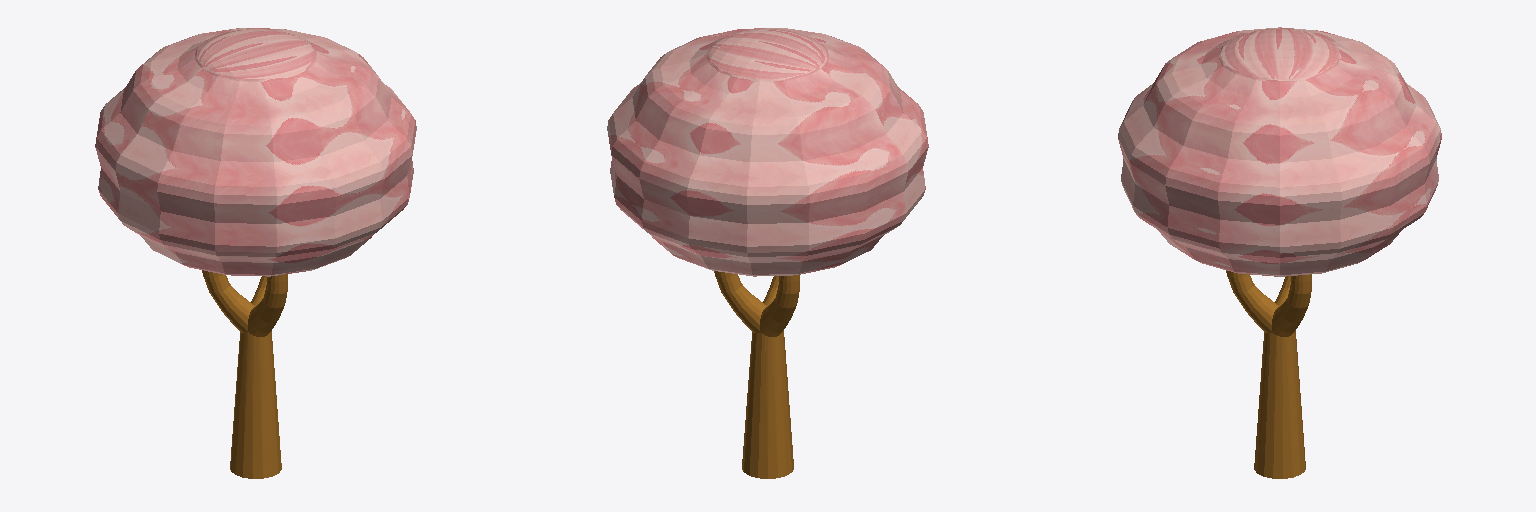
The picture shows the model from 3 angles: view 1: azimuth 30°, elevation 25°; view 2: azimuth 150°, elevation 25°; view 3: azimuth 270°, elevation 25°; orthographic projection.
Visible parts, largest first — view 1: Leaves.007_Leaves.003, Trunk.007_Trunk.003; view 2: Leaves.007_Leaves.003, Trunk.007_Trunk.003; view 3: Leaves.007_Leaves.003, Trunk.007_Trunk.003.
Boxes of the visible parts, <box> form: Leaves.007_Leaves.003: <box>95,28,416,276</box>; Trunk.007_Trunk.003: <box>202,270,287,478</box>; Leaves.007_Leaves.003: <box>607,28,928,276</box>; Trunk.007_Trunk.003: <box>714,271,799,478</box>; Leaves.007_Leaves.003: <box>1118,27,1441,276</box>; Trunk.007_Trunk.003: <box>1226,270,1311,478</box>.
Size of the model in its own units: 4.65 by 6.71 by 4.65.
2 materials, 1 textured.